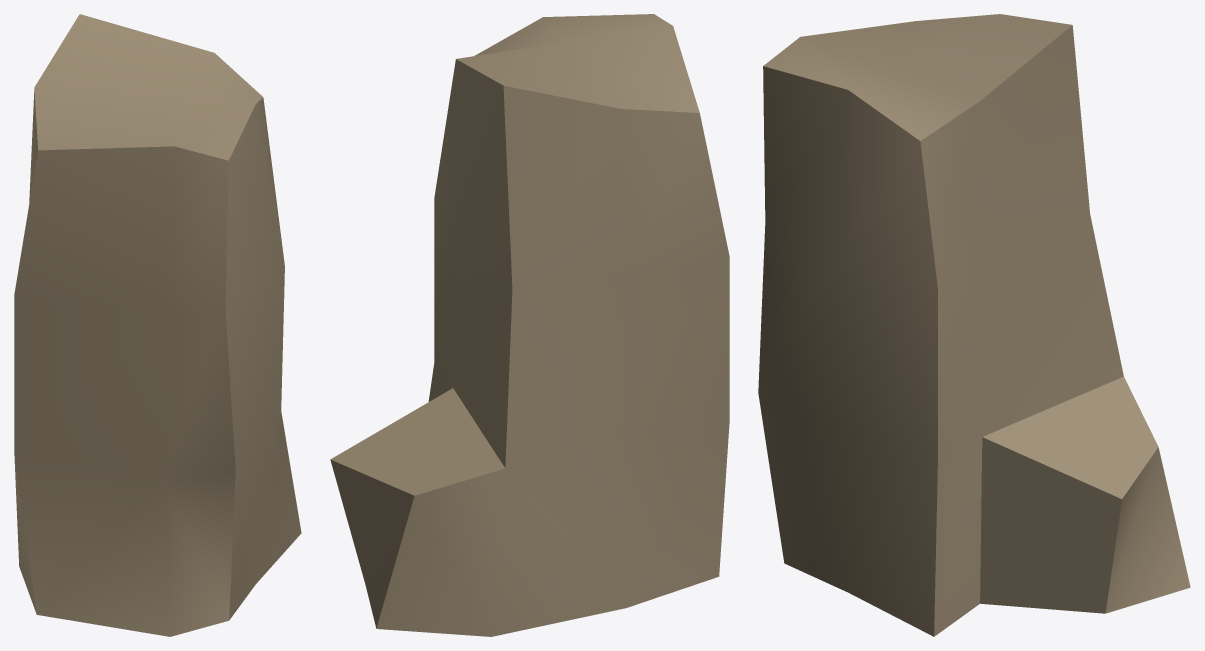
The model's file is rocks_tall_med.fbx.
3 views of the same model, side by side, from view 1: azimuth 30°, elevation 25°; view 2: azimuth 150°, elevation 25°; view 3: azimuth 270°, elevation 25° (orthographic). The views are drawn at different scales.
Parts seen in each view (by area): view 1: rocks_tall_med; view 2: rocks_tall_med; view 3: rocks_tall_med.
Part boxes in pixels (left/top/right/bottom): rocks_tall_med: left=14, top=14, right=301, bottom=636; rocks_tall_med: left=330, top=14, right=729, bottom=636; rocks_tall_med: left=758, top=14, right=1190, bottom=636.
Size of the model in its own units: 61.02 by 99.39 by 73.13.
